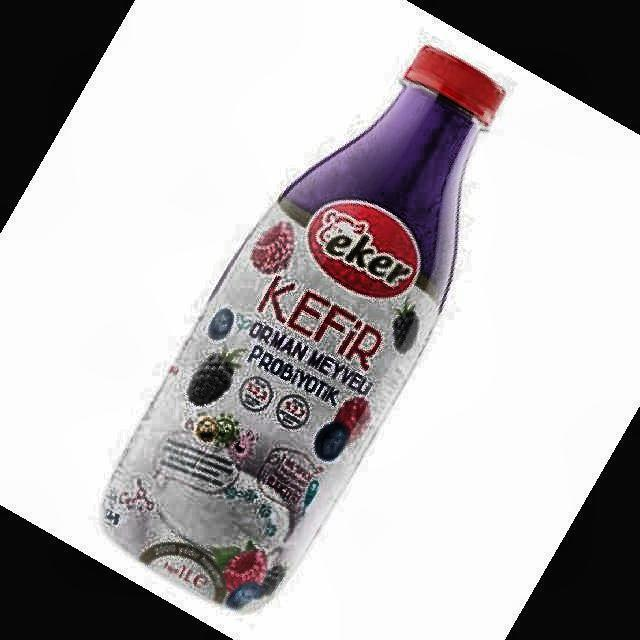plastic: (105, 48, 504, 608)
